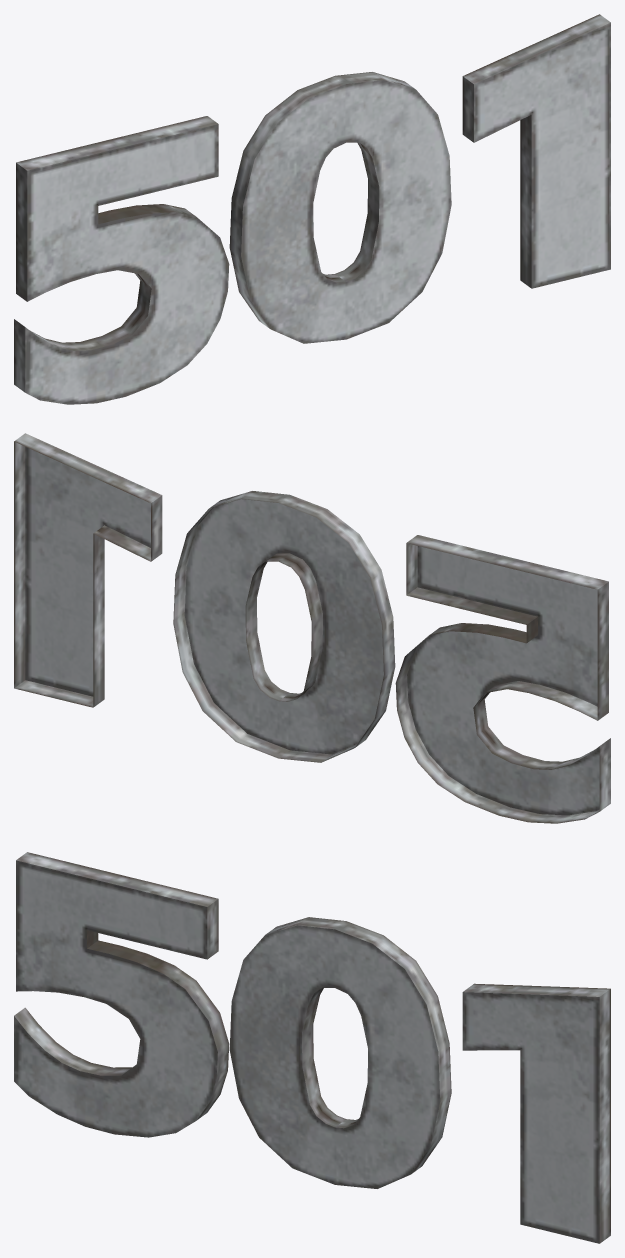
Rendered from categorySign501.FBX.
3 views of the same model, one above another, from view 1: azimuth 30°, elevation 25°; view 2: azimuth 150°, elevation 25°; view 3: azimuth 330°, elevation 25° (orthographic).
Visible parts, largest first — view 1: SM_CategorySign501; view 2: SM_CategorySign501; view 3: SM_CategorySign501.
Part boxes in pixels (box(x1,y1,x2,y2)): SM_CategorySign501: box(14, 14, 610, 404); SM_CategorySign501: box(14, 433, 610, 823); SM_CategorySign501: box(14, 852, 610, 1243).
Size of the model in its own units: 5.96 by 2.52 by 0.2.
1 material, 1 textured.
